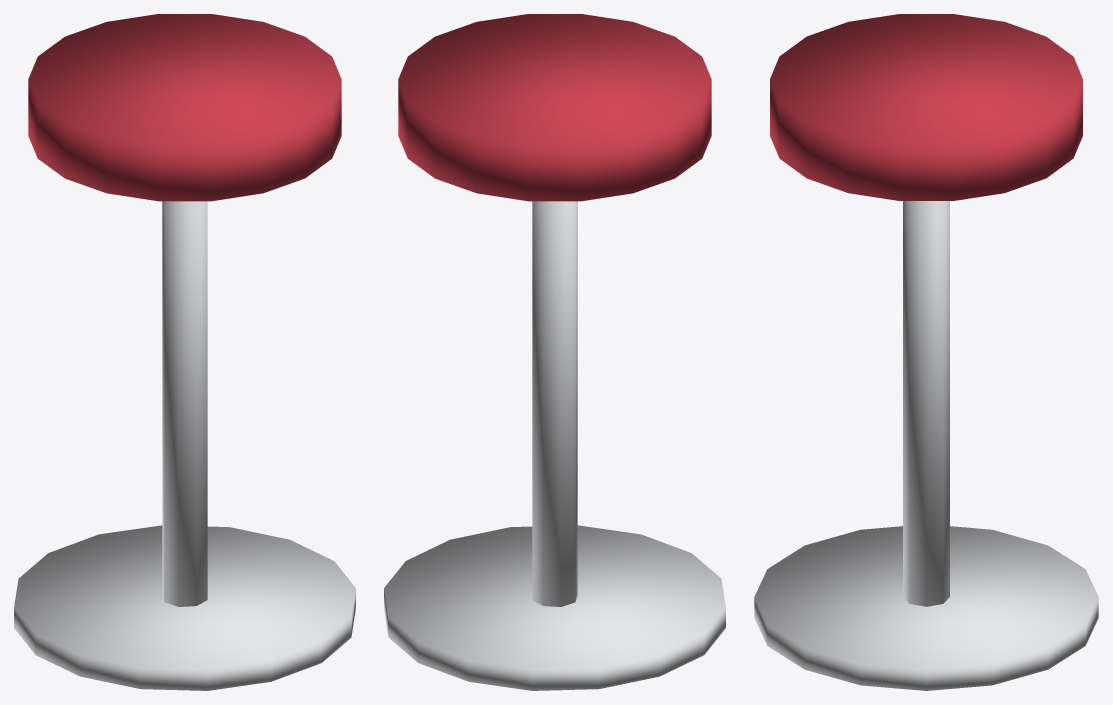
File: casino_stool.glb
3 renders of one model, left to right at view 1: azimuth 30°, elevation 25°; view 2: azimuth 150°, elevation 25°; view 3: azimuth 270°, elevation 25°, orthographic.
Parts seen in each view (by area): view 1: casino_stool; view 2: casino_stool; view 3: casino_stool.
Boxes of the visible parts, x1,y1,x2,y2 form: casino_stool: (14, 14, 355, 690); casino_stool: (384, 14, 725, 690); casino_stool: (754, 14, 1098, 690).
Size of the model in its own units: 0.44 by 0.76 by 0.44.
